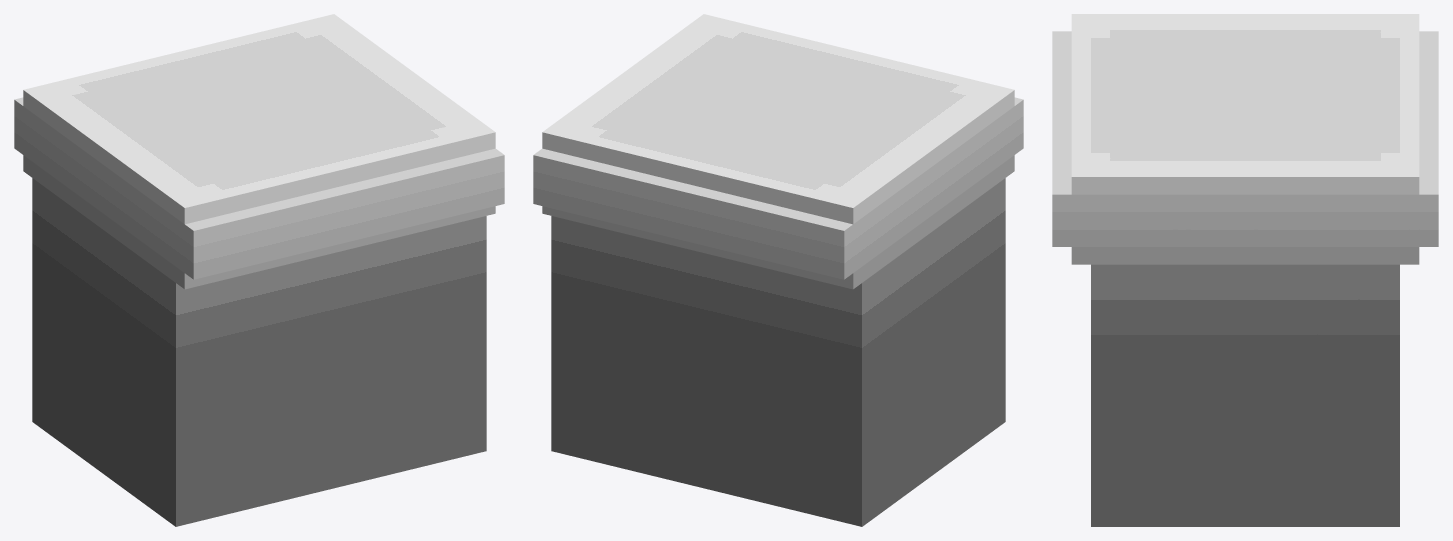
The model's file is full_top_middle.glb.
3 views of the same model, side by side, from view 1: azimuth 30°, elevation 25°; view 2: azimuth 150°, elevation 25°; view 3: azimuth 270°, elevation 25° (orthographic). The views are drawn at different scales.
Visible parts, largest first — view 1: full_top_middle; view 2: full_top_middle; view 3: full_top_middle.
Part boxes in pixels (x1,y1,x2,y2): full_top_middle: [14, 14, 504, 526]; full_top_middle: [533, 14, 1023, 526]; full_top_middle: [1052, 14, 1438, 526].
Size of the model in its own units: 2 by 2 by 2.
1 material, 1 textured.
